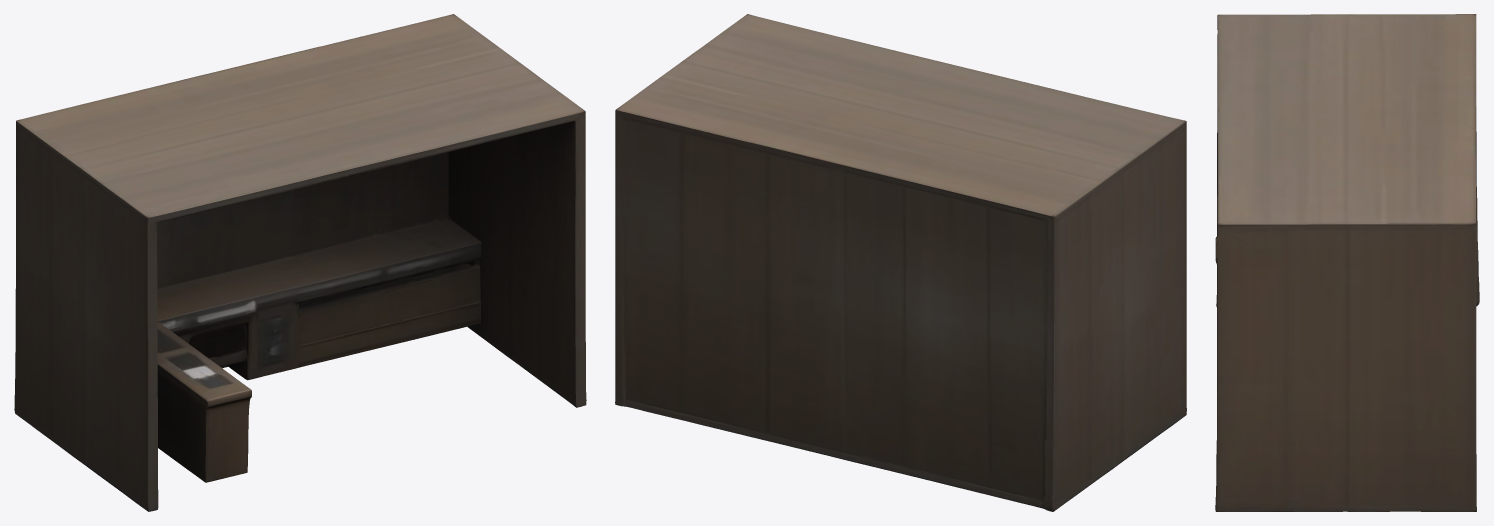
File: desk_brown_open.glb
3 views of the same model, side by side, from view 1: azimuth 30°, elevation 25°; view 2: azimuth 150°, elevation 25°; view 3: azimuth 270°, elevation 25° (orthographic). The views are drawn at different scales.
Visible parts, largest first — view 1: geometry_0; view 2: geometry_0; view 3: geometry_0.
Boxes of the visible parts, left/top/right/bottom form: geometry_0: left=14, top=14, right=586, bottom=511; geometry_0: left=615, top=14, right=1186, bottom=511; geometry_0: left=1215, top=14, right=1479, bottom=511.
Bounding box in the file's own units: 1 × 0.6428 × 0.5322.
Materials: 1 (1 with a texture image).
